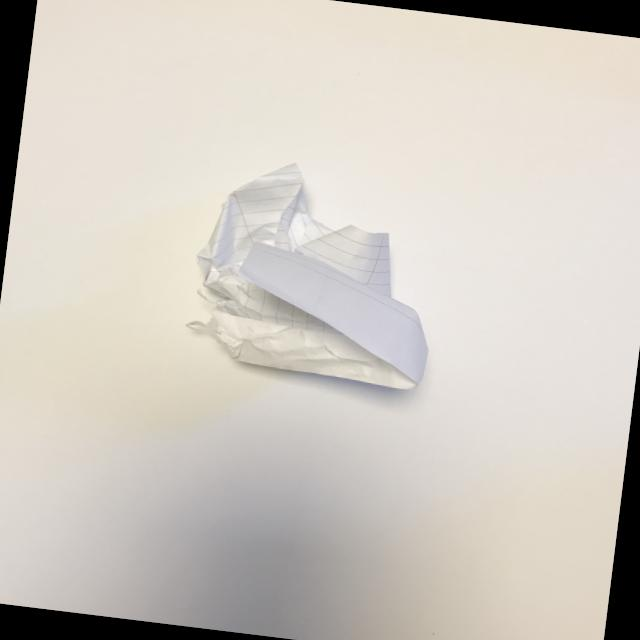Paper: (145, 137, 485, 417)
